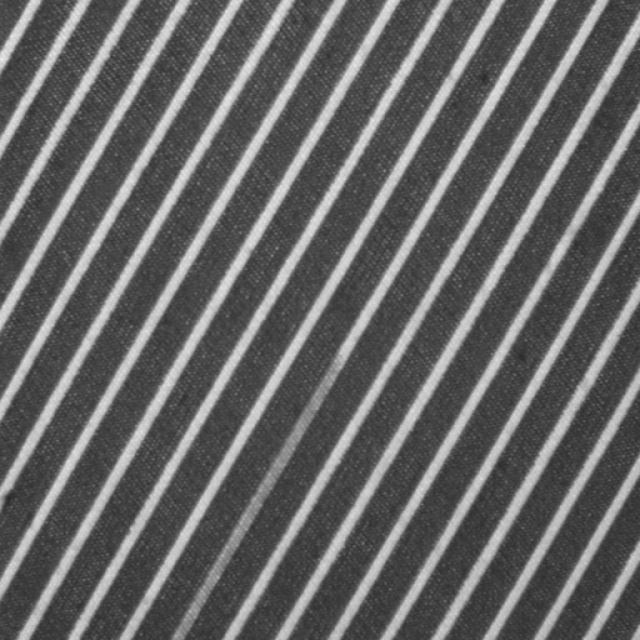Stain-Defect: (149, 298, 375, 639)
